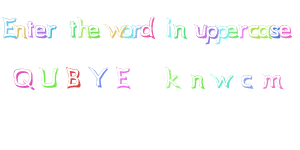B: (65, 66, 82, 90)
E: (1, 13, 17, 40), (115, 66, 133, 90)
Q: (12, 67, 35, 91)
U: (39, 65, 59, 88)
Y: (88, 66, 109, 88)
a: (259, 23, 272, 40)
c: (240, 74, 255, 89), (248, 23, 259, 39)
d: (139, 16, 155, 39)
e: (278, 23, 293, 39), (33, 22, 47, 39), (226, 23, 239, 40), (88, 23, 100, 39)
h: (77, 15, 89, 37)
i: (164, 17, 173, 38)
k: (166, 67, 182, 89)
m: (261, 73, 284, 89)
n: (172, 23, 188, 40), (189, 73, 206, 88), (14, 23, 27, 39)
o: (119, 24, 133, 39)
p: (205, 25, 219, 46), (216, 23, 228, 46)
r: (237, 23, 248, 40), (46, 21, 56, 39), (131, 24, 143, 39)
s: (269, 23, 280, 39)
t: (26, 18, 35, 38), (68, 20, 77, 39)
u: (193, 22, 208, 39)
w: (210, 73, 234, 89), (104, 24, 126, 39)
